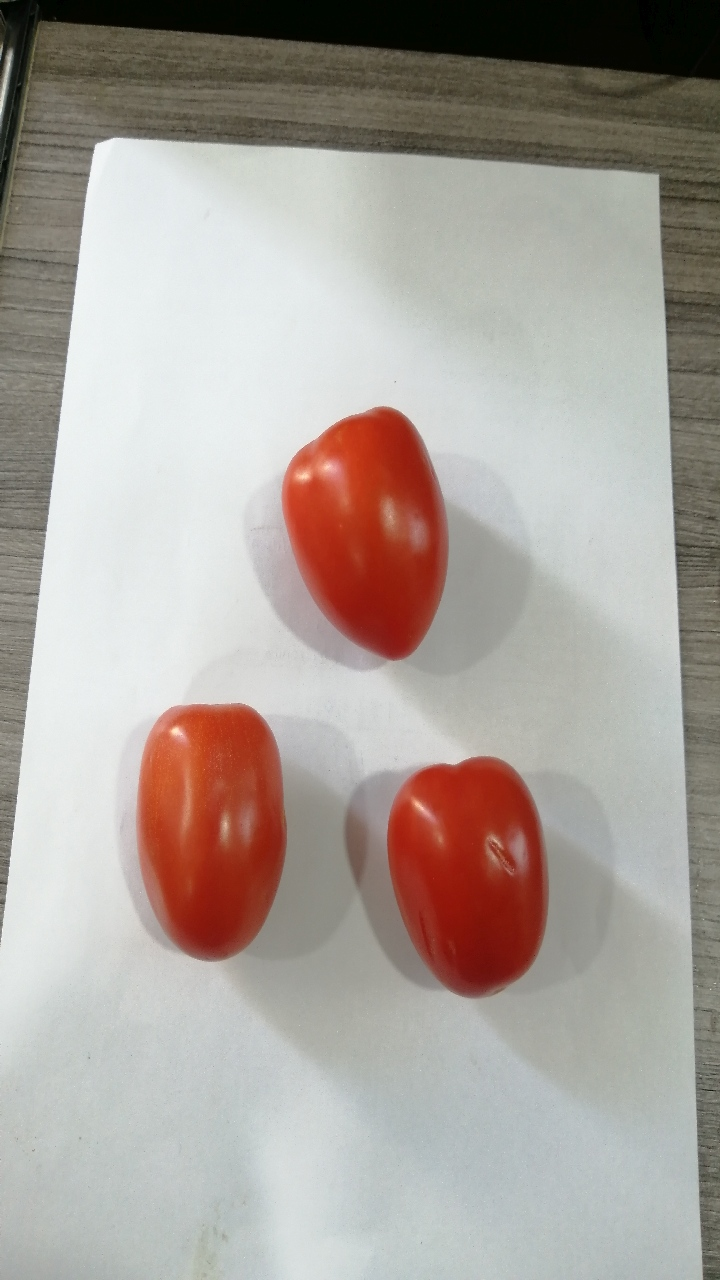tomateRojo: (264, 394, 458, 679), (114, 689, 295, 979), (377, 739, 560, 1020)
